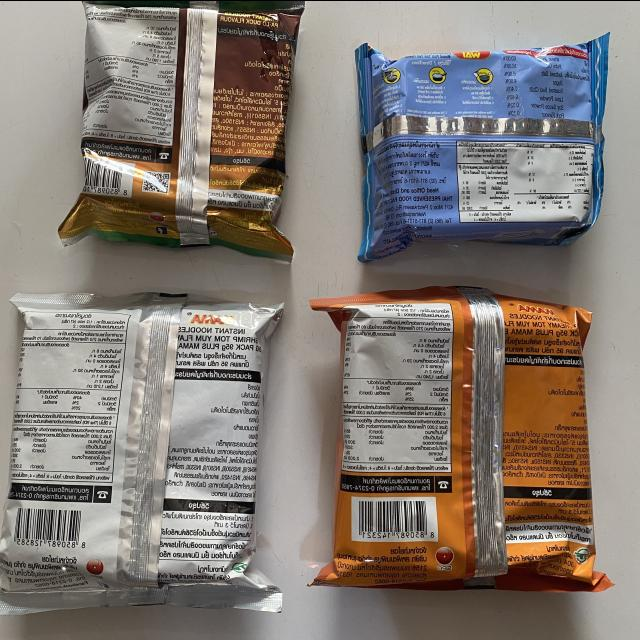plastik: (311, 285, 611, 590), (0, 292, 283, 613), (60, 0, 304, 260), (356, 33, 609, 261)
